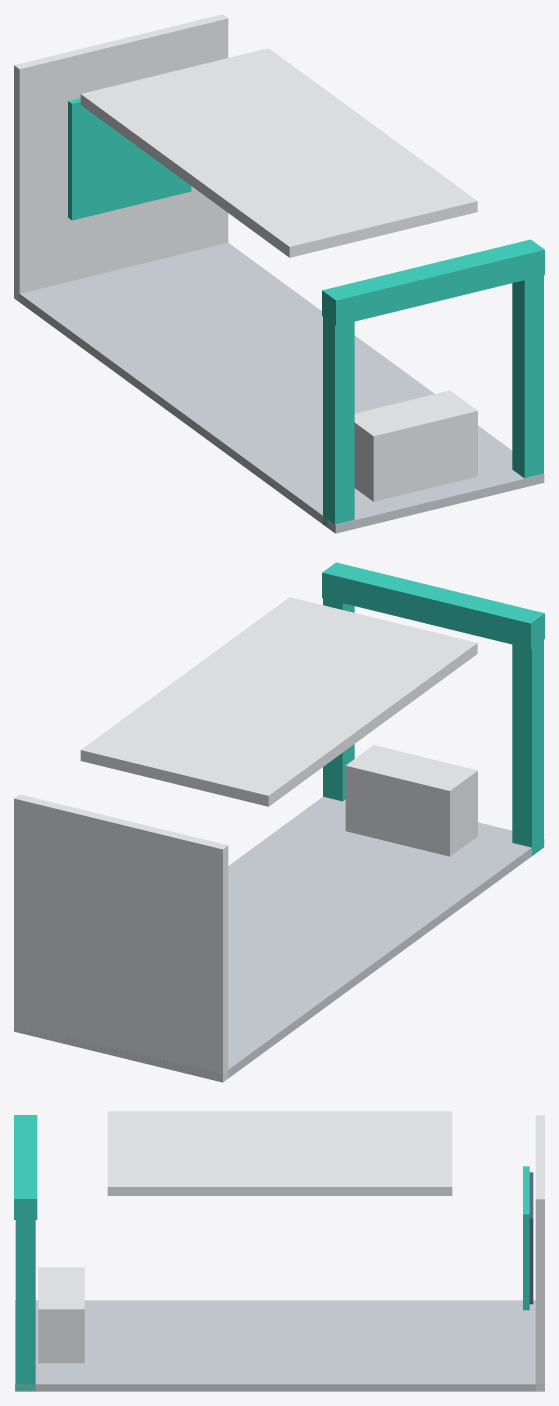
3 renders of one model, top to bottom at view 1: azimuth 30°, elevation 25°; view 2: azimuth 150°, elevation 25°; view 3: azimuth 270°, elevation 25°, orthographic. The views are drawn at different scales.
Parts seen in each view (by area): view 1: Exhibition Booth Concept; view 2: Exhibition Booth Concept; view 3: Exhibition Booth Concept.
Part boxes in pixels (bbox=[...]): Exhibition Booth Concept: bbox=[14, 14, 544, 533]; Exhibition Booth Concept: bbox=[14, 562, 544, 1082]; Exhibition Booth Concept: bbox=[14, 1111, 544, 1391].
Size of the model in its own units: 3 by 3.34 by 8.01.
